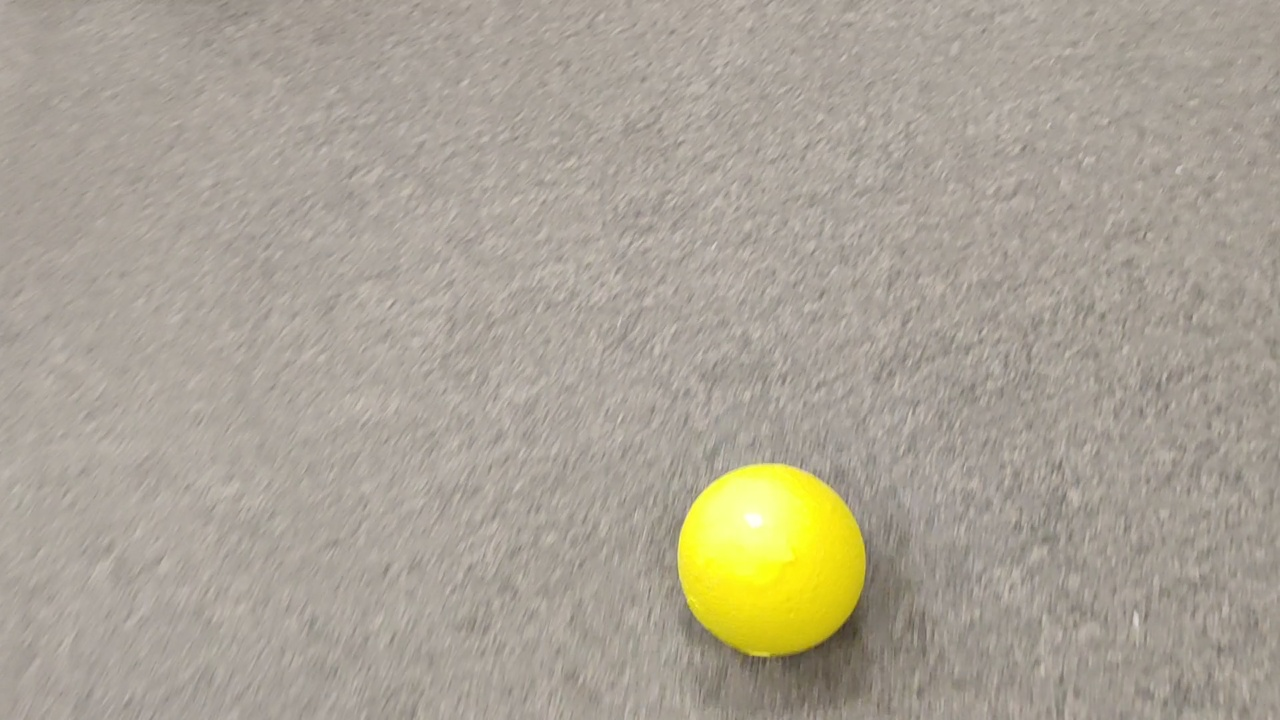Ball: (678, 462, 869, 658)
